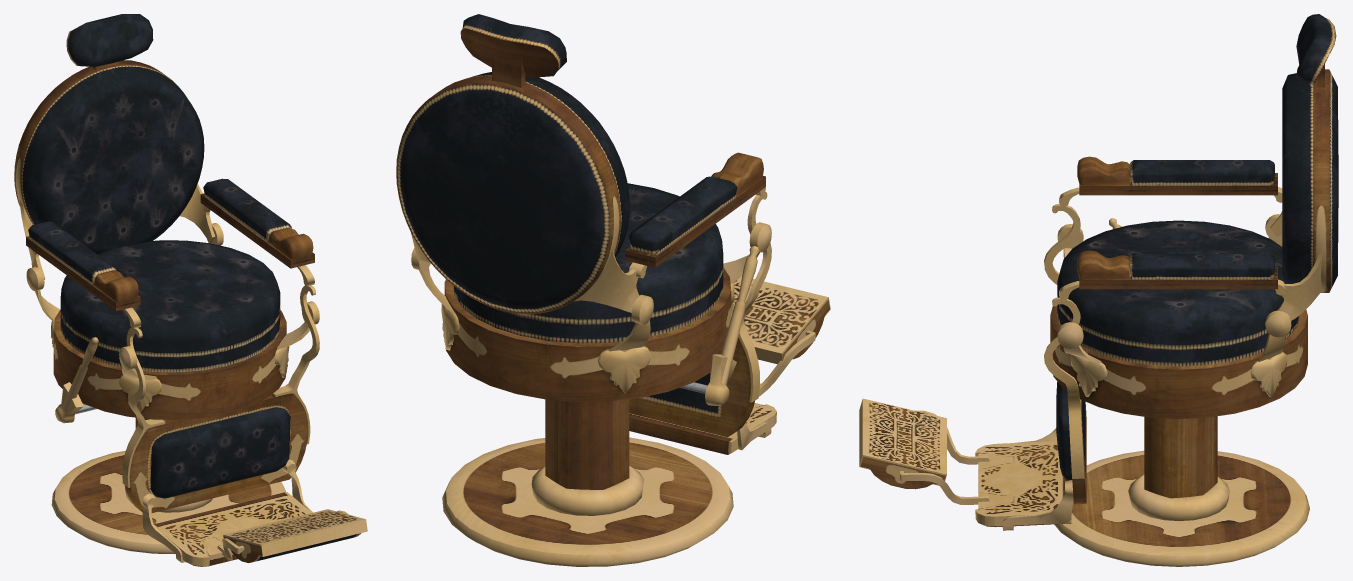
The model's file is barber_shop_chair_01_4k-v1.glb.
The picture shows the model from 3 angles, left to right: view 1: azimuth 30°, elevation 25°; view 2: azimuth 150°, elevation 25°; view 3: azimuth 270°, elevation 25°; orthographic projection. The views are drawn at different scales.
Parts seen in each view (by area): view 1: BarberShopChair_01; view 2: BarberShopChair_01; view 3: BarberShopChair_01.
Boxes of the visible parts, x1=… form: BarberShopChair_01: x1=14, y1=14, x2=367, y2=566; BarberShopChair_01: x1=396, y1=14, x2=830, y2=566; BarberShopChair_01: x1=859, y1=14, x2=1338, y2=566.
Size of the model in its own units: 0.7565 by 1.49 by 1.33.
Materials: 1 (1 with a texture image).
